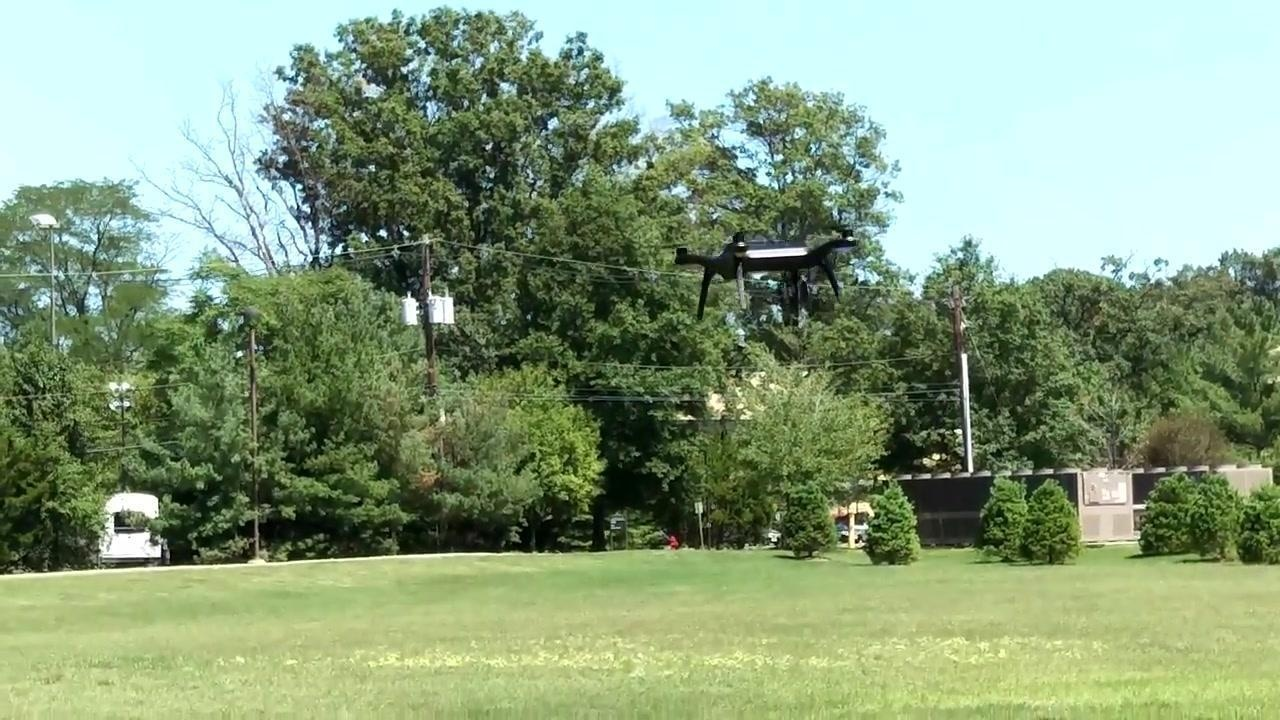UAV: (676, 225, 860, 328)
